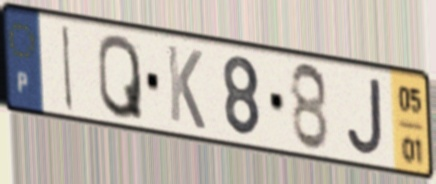8: (287, 60, 331, 155), (220, 53, 263, 139)
I: (60, 21, 76, 114)
J: (345, 76, 386, 158)
K: (164, 41, 208, 134)
Q: (96, 31, 146, 123)
